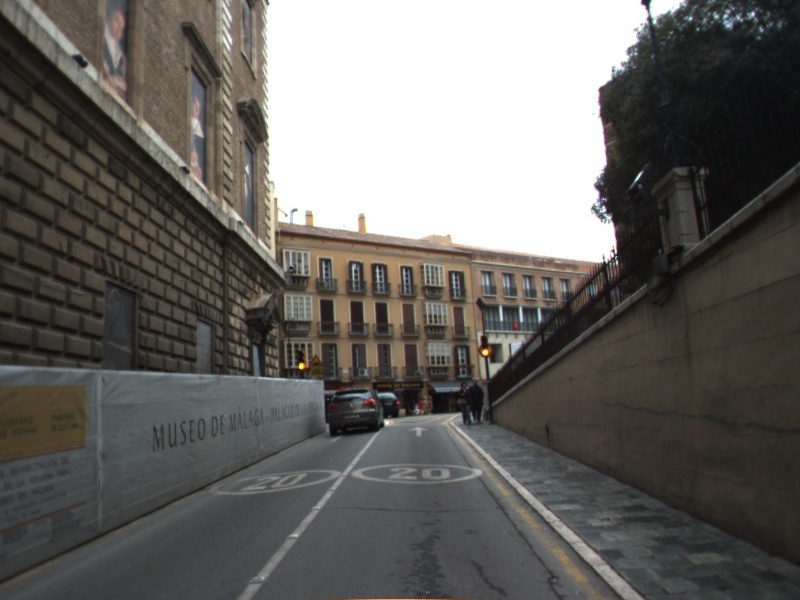STRAIGHT: (407, 425, 430, 438)
